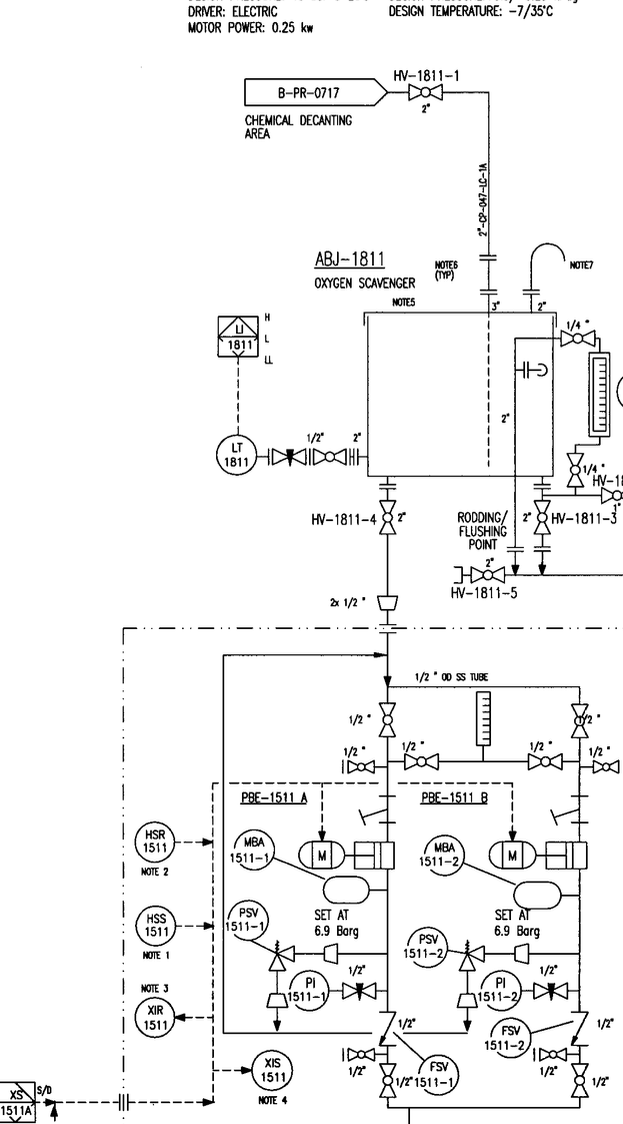Instrument: (245, 1047, 297, 1093), (211, 433, 262, 478), (133, 895, 177, 947), (135, 813, 175, 867), (130, 994, 179, 1038)
Instrument-offset: (227, 823, 281, 878), (410, 1050, 463, 1101), (399, 919, 448, 974), (482, 1016, 534, 1065), (417, 827, 465, 880), (474, 967, 525, 1013), (285, 969, 331, 1012), (228, 897, 273, 940)
Instrument-square: (207, 312, 263, 366)
